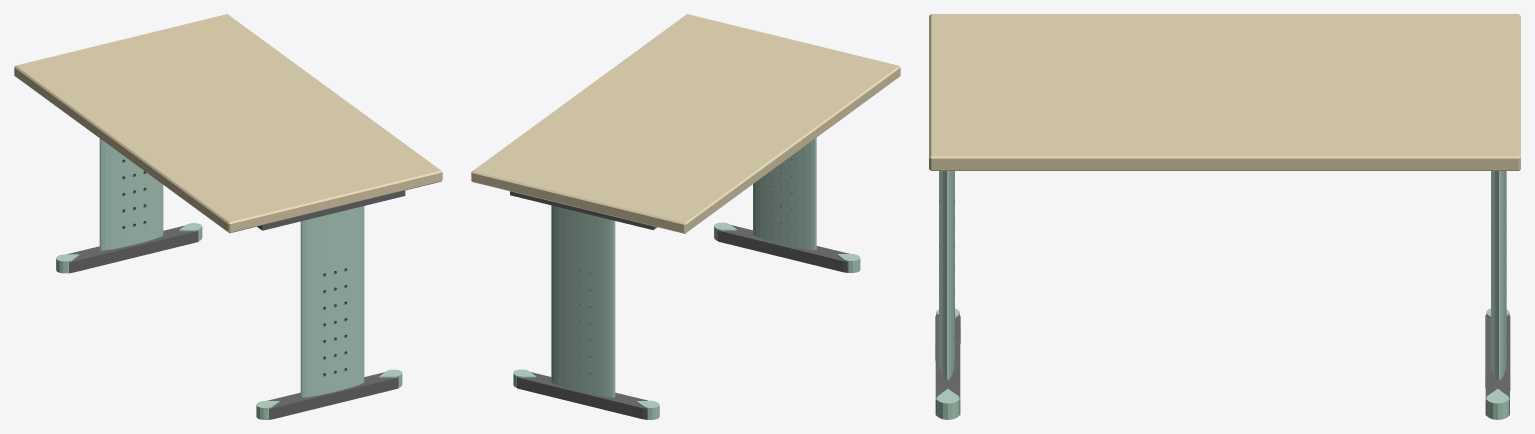
3 views of the same model, side by side, from view 1: azimuth 30°, elevation 25°; view 2: azimuth 150°, elevation 25°; view 3: azimuth 270°, elevation 25° (orthographic). The views are drawn at different scales.
Visible parts, largest first — view 1: obj0; view 2: obj0; view 3: obj0.
Boxes of the visible parts, <box> form: obj0: <box>14,14,442,419</box>; obj0: <box>471,14,900,419</box>; obj0: <box>929,14,1520,419</box>.
Bounding box in the file's own units: 0.81 × 1.41 × 0.755.
